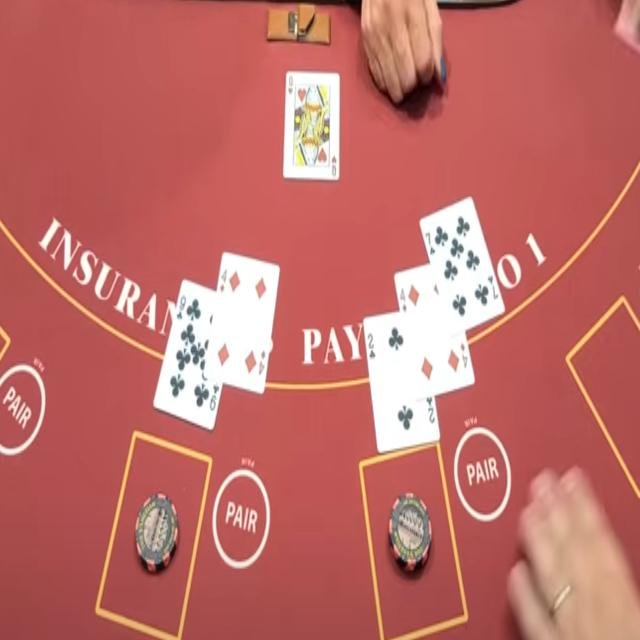2: (366, 331, 376, 350)
4: (398, 286, 407, 303), (220, 266, 228, 284)
7: (424, 230, 433, 248)
9: (179, 293, 186, 311)
Q: (287, 74, 294, 88)
